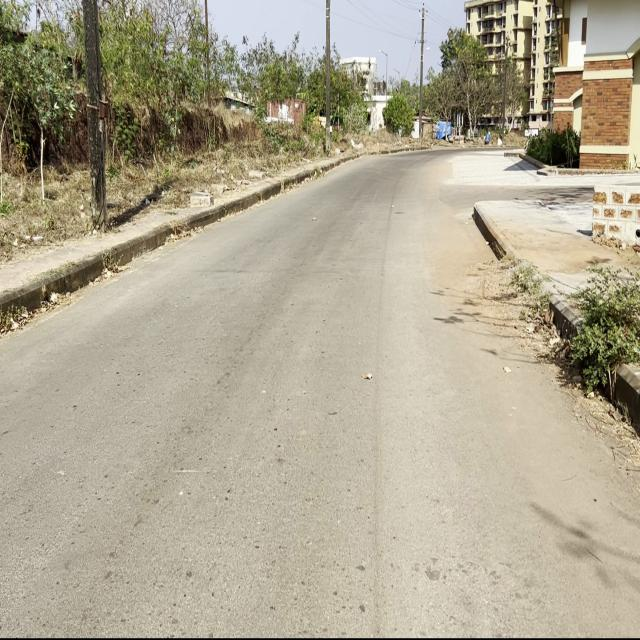Road: (0, 146, 640, 638)
